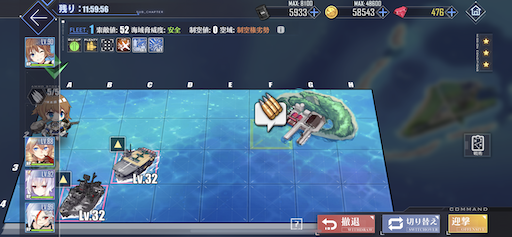lv1: (109, 136, 158, 184), (57, 172, 103, 222)
